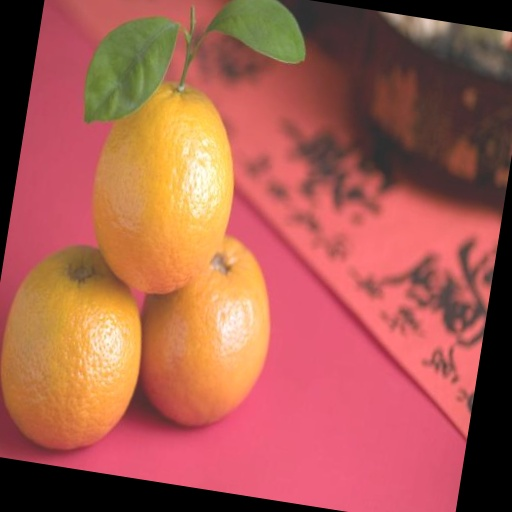fruit: (93, 84, 233, 293), (0, 246, 141, 449), (140, 237, 270, 425)
